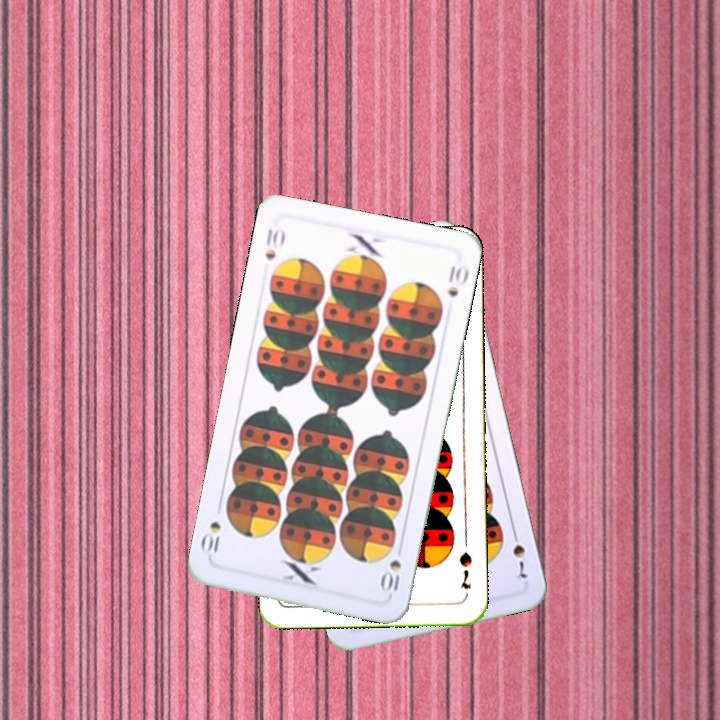S10: (378, 555, 404, 598), (261, 224, 288, 262)
S7: (508, 525, 529, 584), (455, 548, 475, 592)
